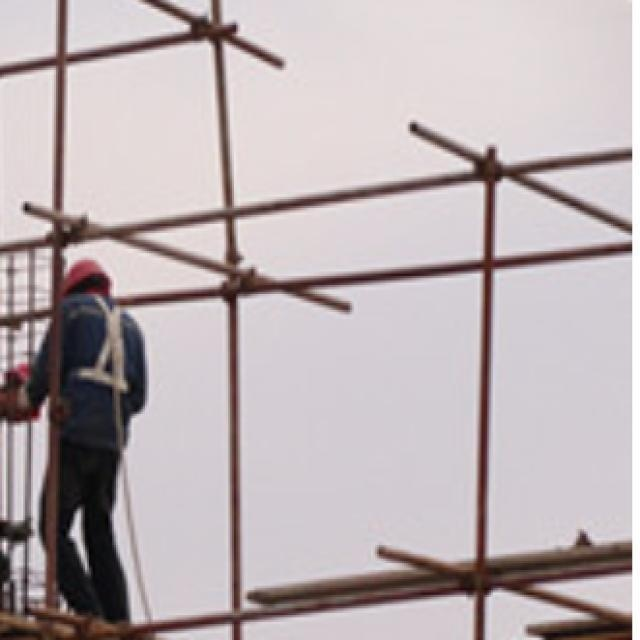Arnes_seguridad: (64, 285, 139, 391)
